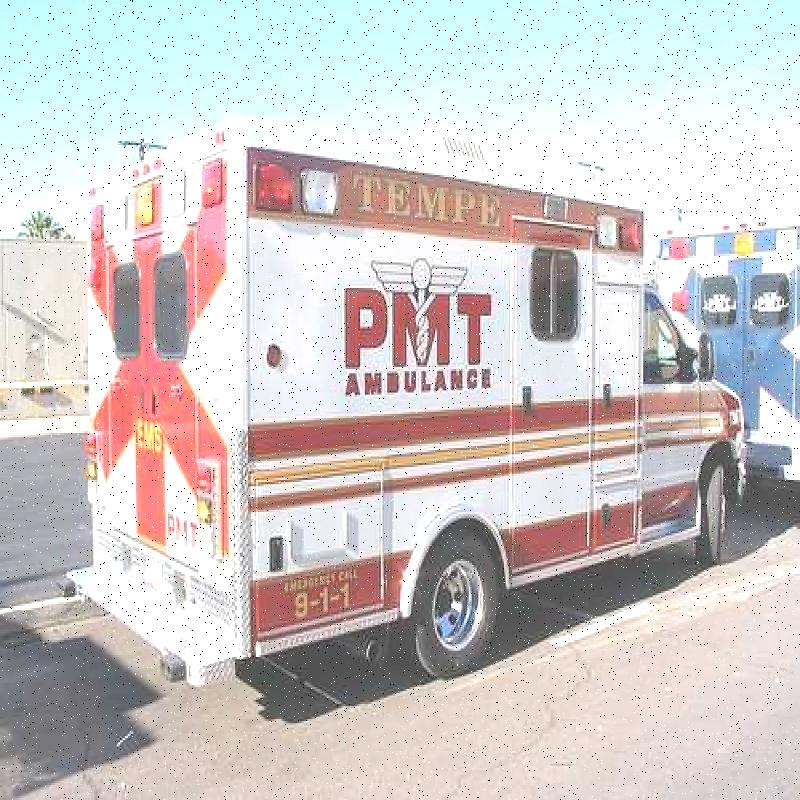AmbulanceSiren: (243, 146, 343, 230)
